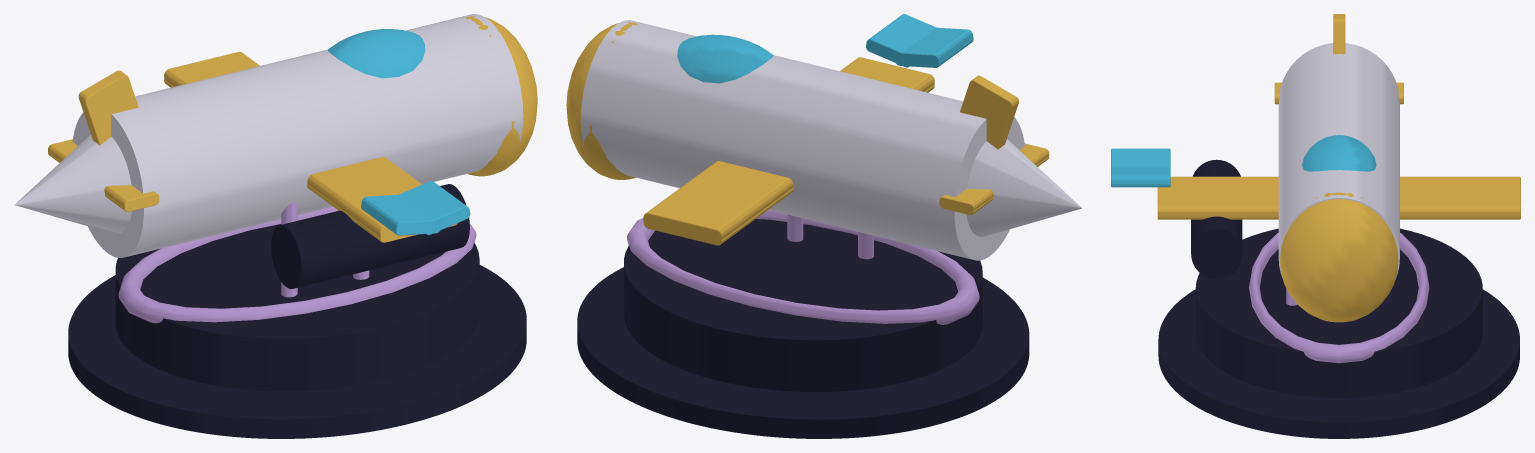
Rendered from 0383_欧洲文明图鉴_炼金器具.glb.
The picture shows the model from 3 angles, left to right: view 1: azimuth 30°, elevation 25°; view 2: azimuth 150°, elevation 25°; view 3: azimuth 270°, elevation 25°; orthographic projection. The views are drawn at different scales.
Parts seen in each view (by area): view 1: card_0383; view 2: card_0383; view 3: card_0383.
Part boxes in pixels (bbox=[...]): card_0383: bbox=[14, 14, 537, 438]; card_0383: bbox=[566, 14, 1081, 438]; card_0383: bbox=[1111, 14, 1520, 438].
Bounding box in the file's own units: 1.69 × 1 × 1.4.
